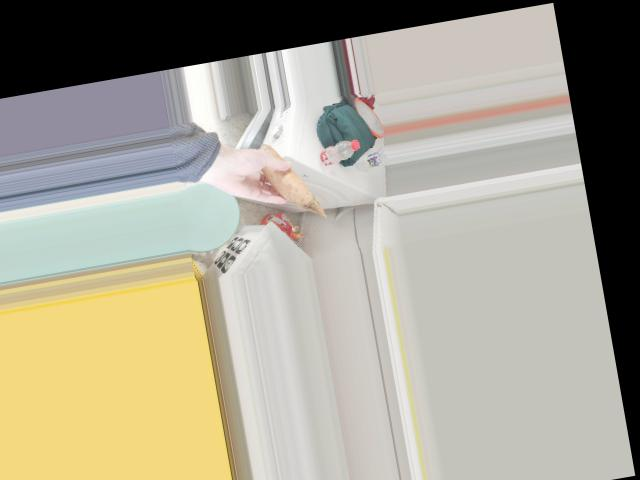sweet_potato: (261, 152, 312, 204)
